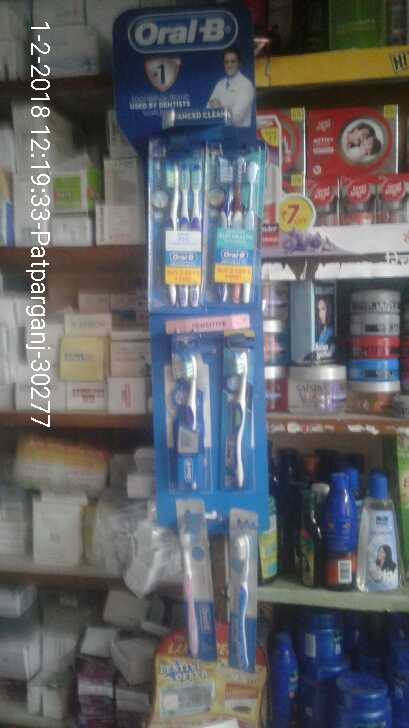oralb: (146, 148, 203, 308), (214, 509, 264, 667), (170, 508, 212, 659), (220, 343, 260, 492)
w: (159, 343, 213, 488), (214, 153, 260, 312)
